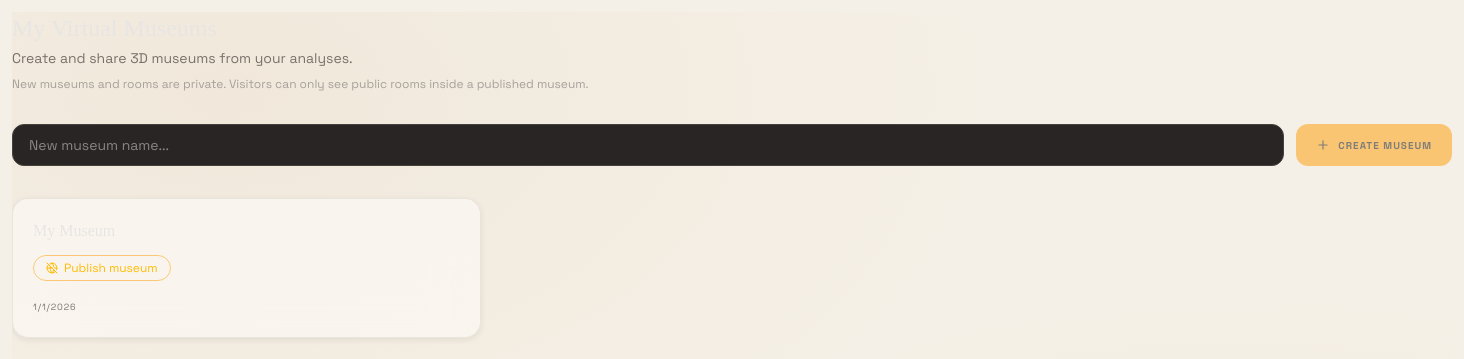
Scenario: MuseumEditor publication controls › starts private and publishes only the museum after database confirmation
This screenshot has width=1464, height=359.
What coordinates should you click on to do the following:
click the button "Publish museum"
I would click on:
 (102, 268)
Its box is [33, 255, 171, 281].
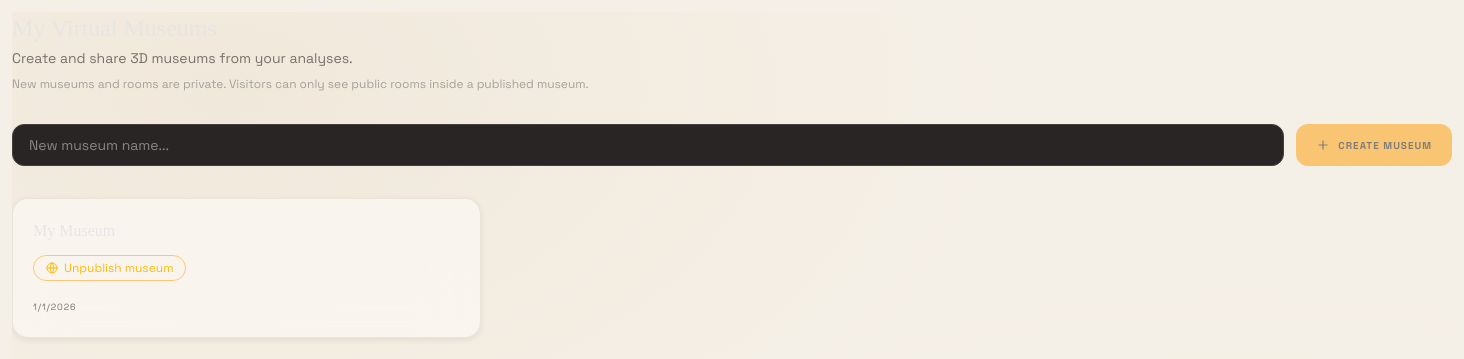
Expected: the text "New museums and rooms are private" is shown, [12, 76, 589, 92]
Result: the button "Unpublish museum" is shown at [33, 255, 186, 281]
